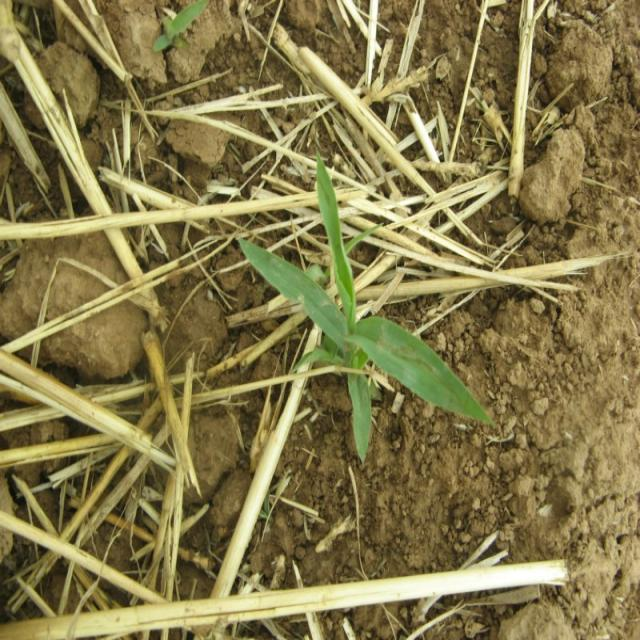bg: (235, 159, 489, 458)
